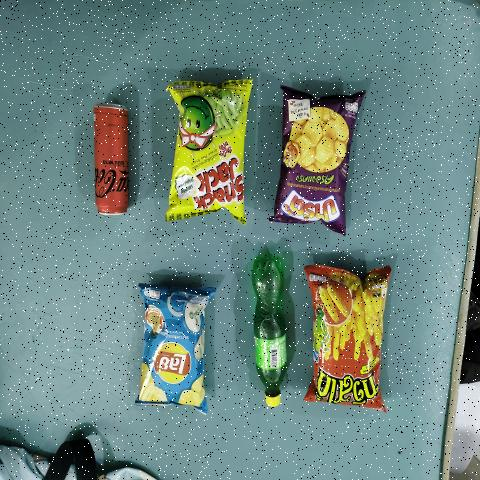coke_red: (95, 106, 128, 212)
fanta_green: (248, 255, 292, 410)
lay_blue: (148, 300, 199, 400)
party_purple: (282, 86, 352, 228)
snack_jack: (175, 82, 242, 215)
twisco: (310, 266, 382, 404)
